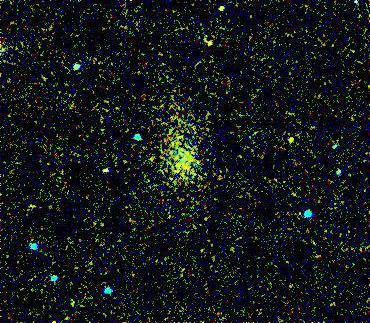star: (275, 124, 305, 154)
